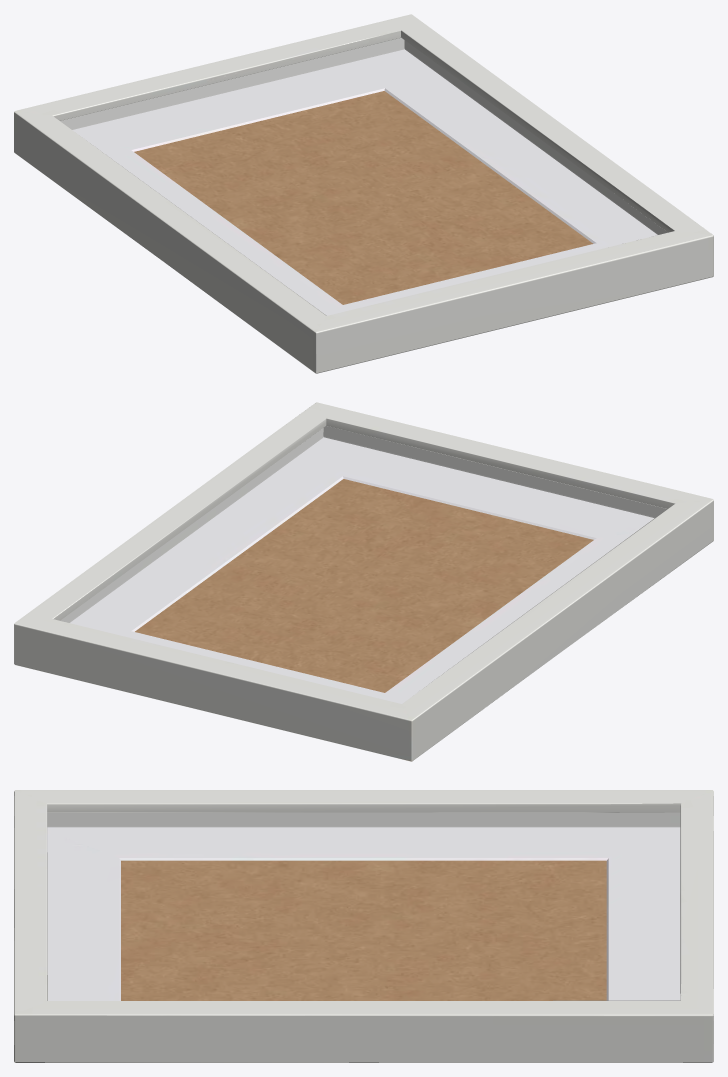
The model's file is medium-white.glb.
3 views of the same model, one above another, from view 1: azimuth 30°, elevation 25°; view 2: azimuth 150°, elevation 25°; view 3: azimuth 270°, elevation 25° (orthographic). The views are drawn at different scales.
Visible parts, largest first — view 1: ASY_ART_40548922_S01_NV01; view 2: ASY_ART_40548922_S01_NV01; view 3: ASY_ART_40548922_S01_NV01.
Boxes of the visible parts, bbox=[...] form: ASY_ART_40548922_S01_NV01: bbox=[14, 14, 713, 373]; ASY_ART_40548922_S01_NV01: bbox=[14, 402, 713, 761]; ASY_ART_40548922_S01_NV01: bbox=[14, 790, 713, 1062].
Bounding box in the file's own units: 0.318 × 0.032 × 0.418.
Materials: 2 (1 with a texture image).
